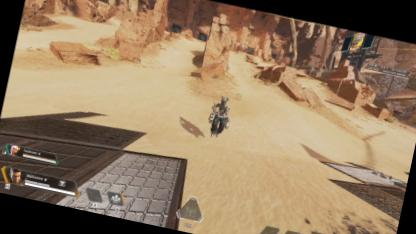Target: (204, 93, 235, 140)
